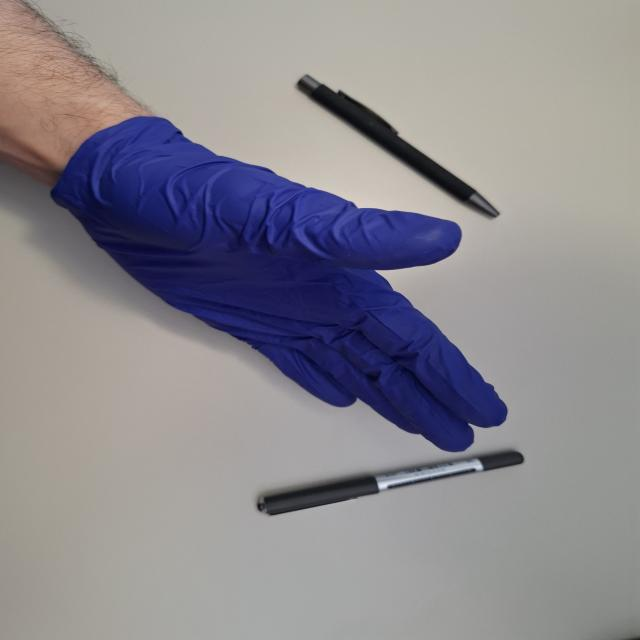glove_on: (46, 110, 511, 456)
